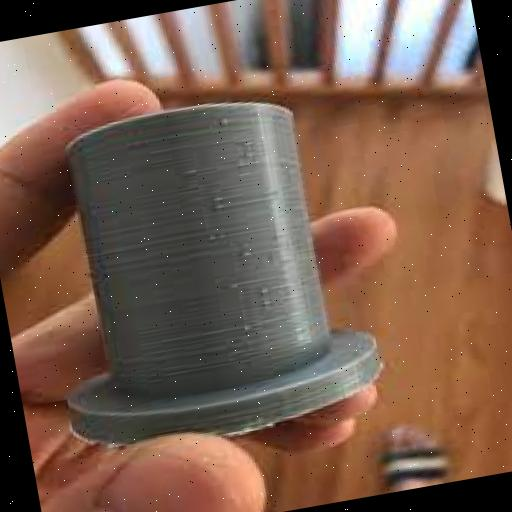blobs: (216, 272, 302, 346), (204, 201, 263, 274), (216, 104, 253, 172), (174, 166, 226, 205)
